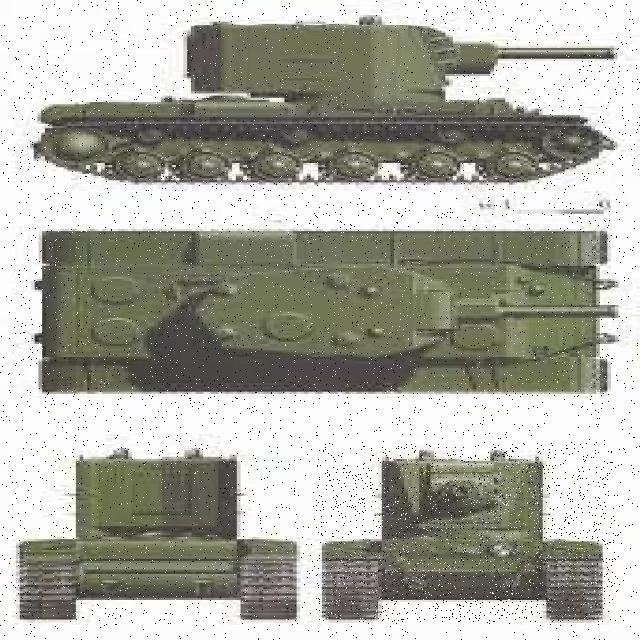MIL_MBT: (25, 207, 620, 406), (28, 26, 627, 187), (316, 445, 616, 622), (10, 445, 301, 622)
